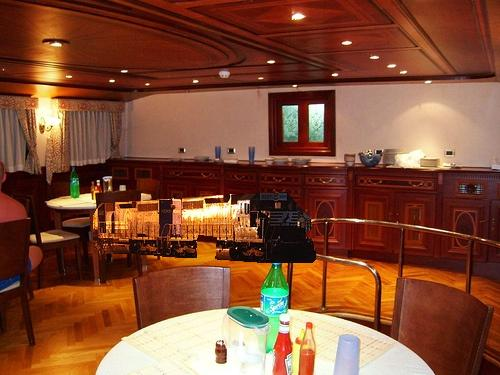tampered: (94, 193, 316, 263)
